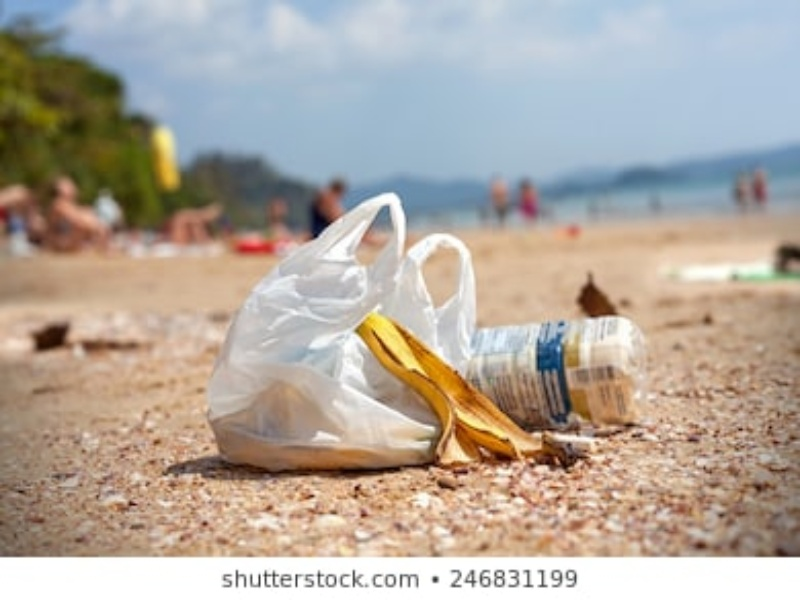plastic-bag: (208, 188, 486, 472)
plastic-bottle: (459, 311, 644, 421)
